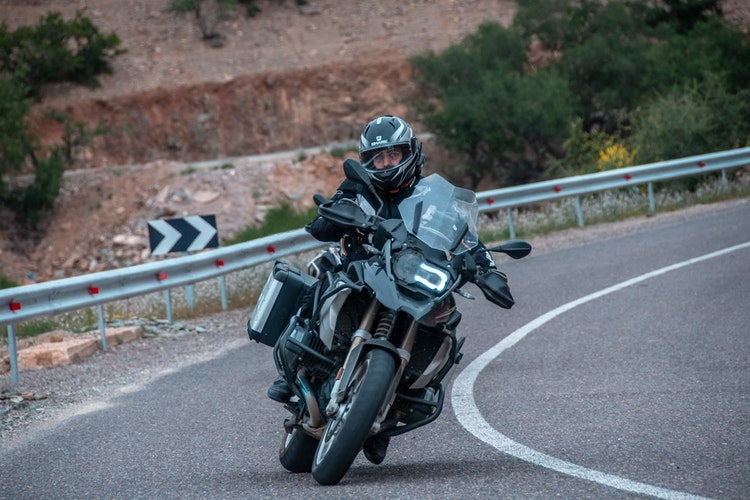helmet: (357, 115, 426, 193)
